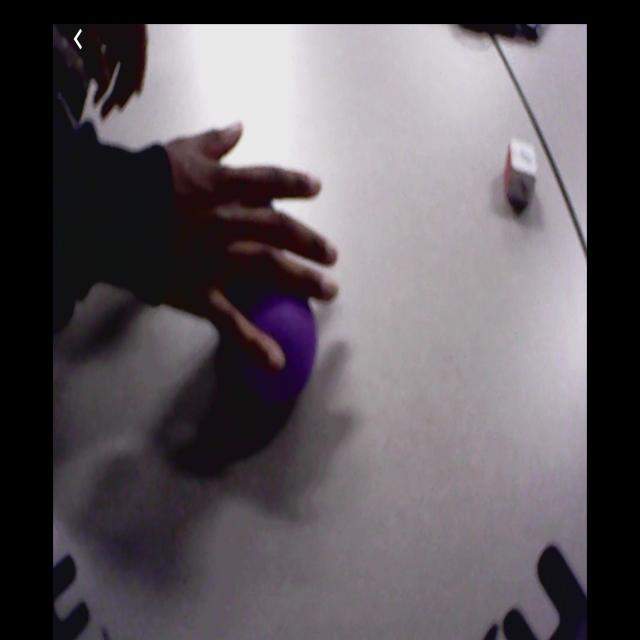ball: (226, 289, 317, 401)
